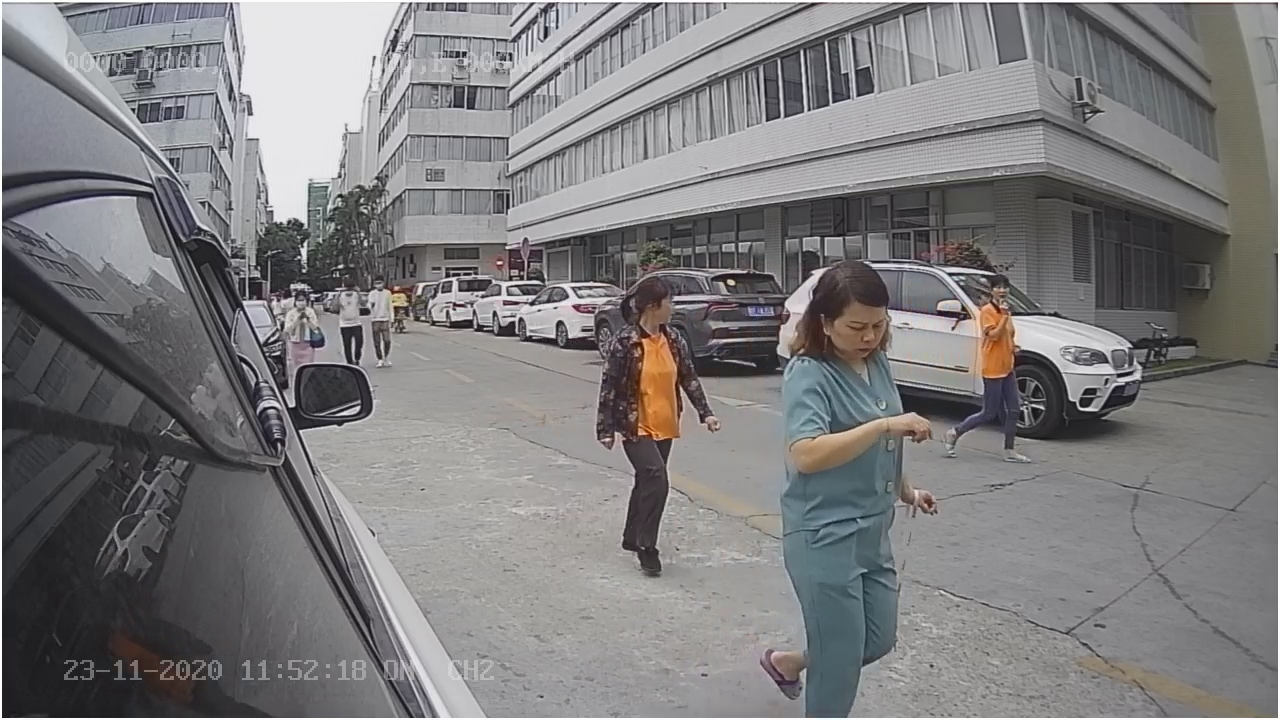person: (788, 273, 917, 707), (605, 279, 697, 561), (963, 264, 1028, 463)
